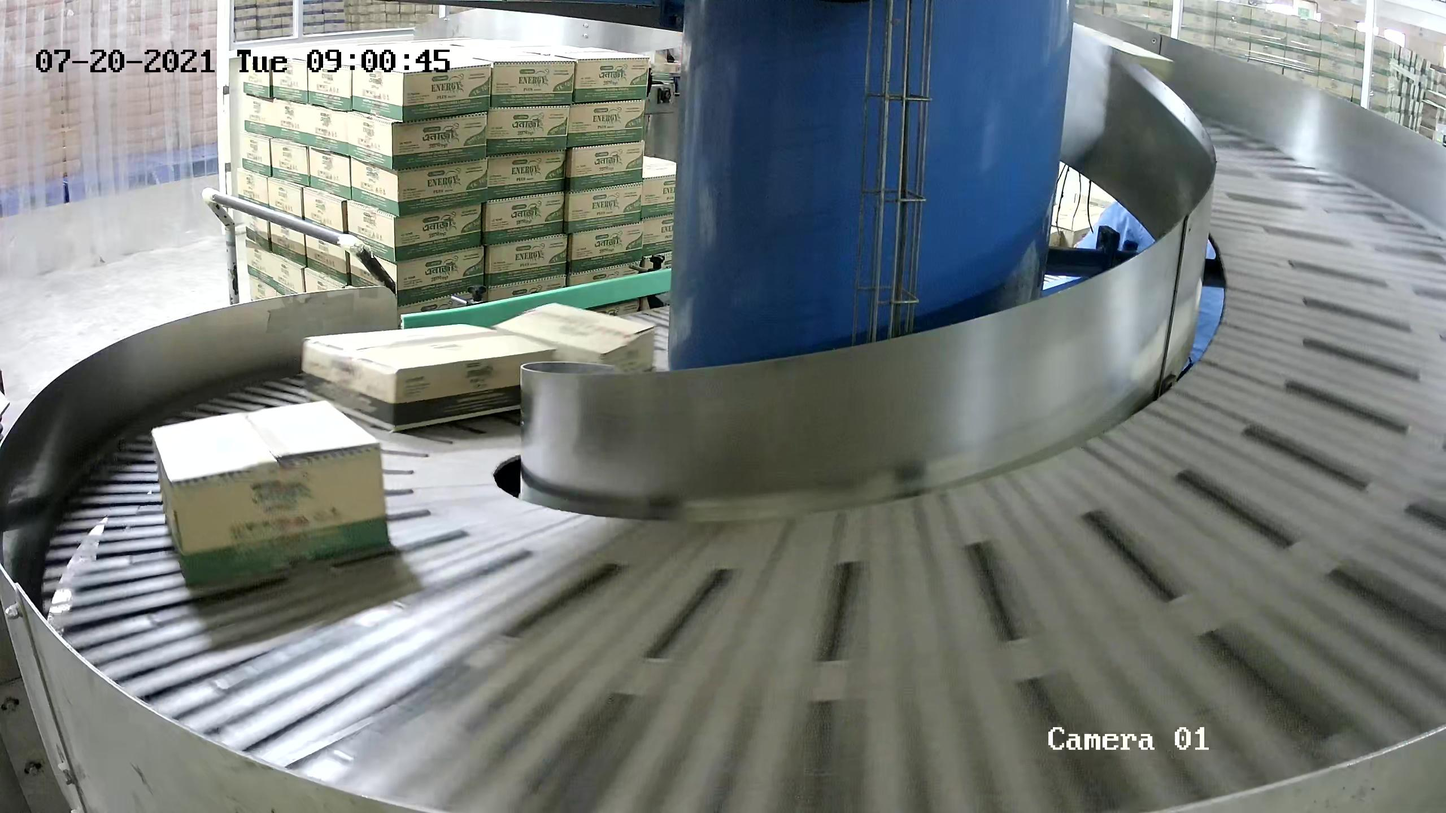Box: (150, 399, 392, 584), (301, 322, 558, 432)
